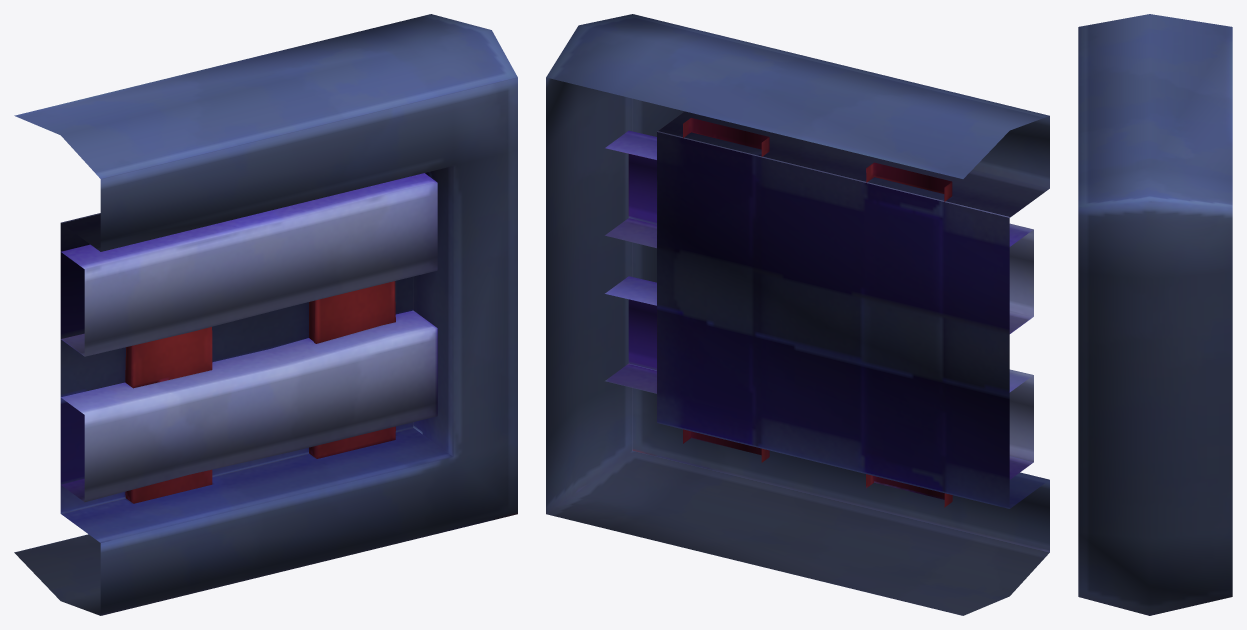
Rendered from LP_LaserRailEnd.fbx.
The picture shows the model from 3 angles, left to right: view 1: azimuth 30°, elevation 25°; view 2: azimuth 150°, elevation 25°; view 3: azimuth 270°, elevation 25°; orthographic projection. The views are drawn at different scales.
Parts seen in each view (by area): view 1: LP_LaserRailEnd; view 2: LP_LaserRailEnd; view 3: LP_LaserRailEnd.
Boxes of the visible parts, box(x1,y1,x2,y2) form: LP_LaserRailEnd: box(14, 14, 517, 615); LP_LaserRailEnd: box(546, 14, 1049, 615); LP_LaserRailEnd: box(1078, 14, 1232, 615).
Bounding box in the file's own units: 31 × 32 × 10.8.
